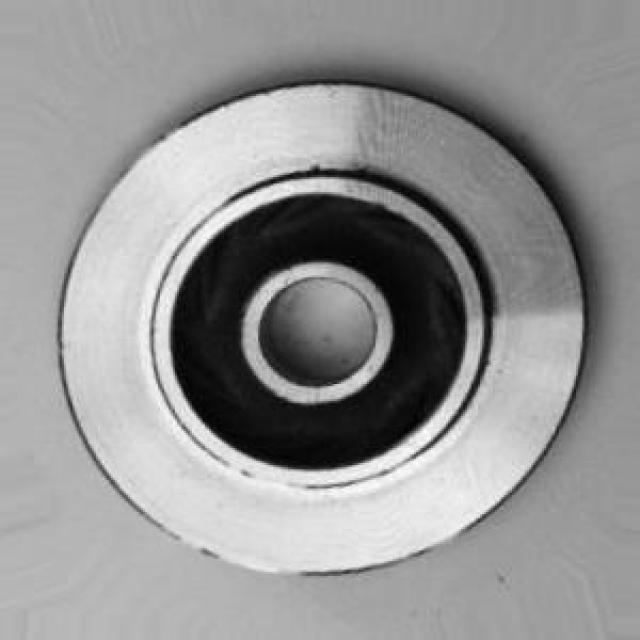Defect: (302, 151, 332, 183)
